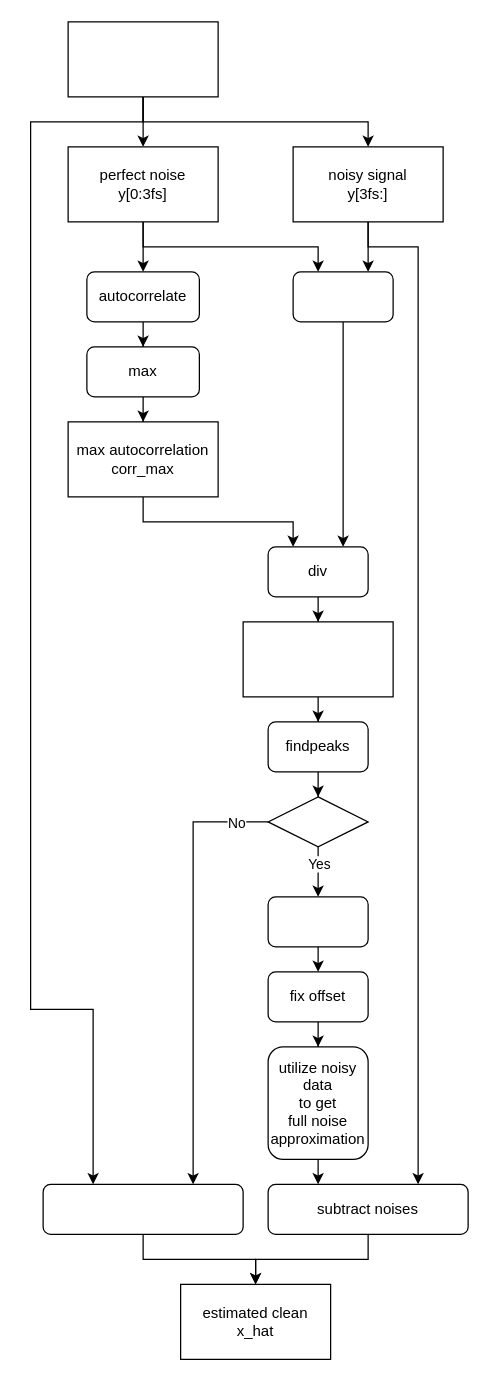
The diagram is 490 pixels wide and 1381 high, and some of its shapes have lost their labels. Here are the shapes that lost their labels. From the top down, the centre of each, then its label:
At pixel 142 59: "noisy signal y".
At pixel 342 296: "correlate".
At pixel 317 659: "normalized cross correlation crosscorr".
At pixel 317 821: "Any peak?".
At pixel 317 921: "apply lags".
At pixel 142 1208: "apply FIR Wiener filter".
